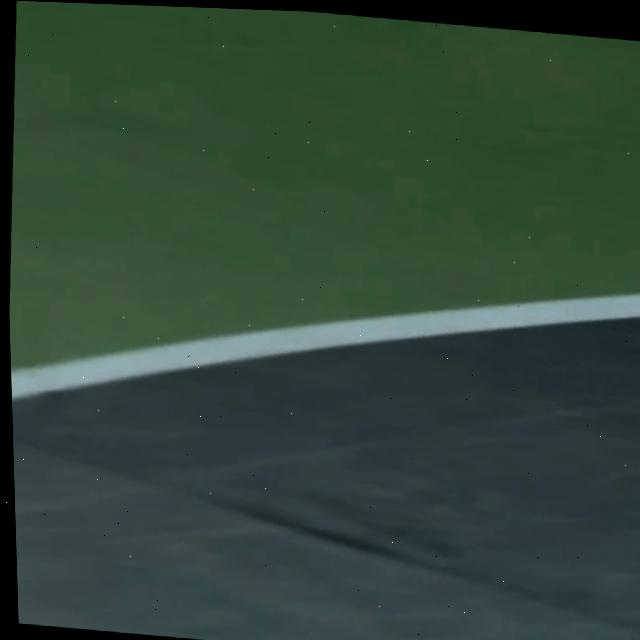right: (11, 294, 640, 400)
